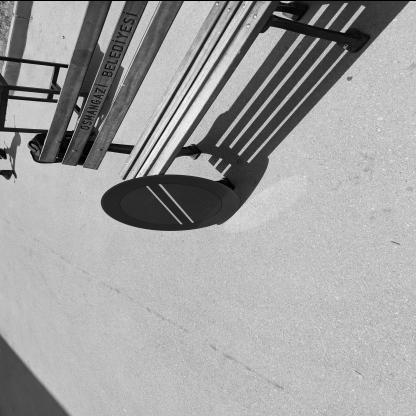No Waiting: (102, 174, 242, 232)
